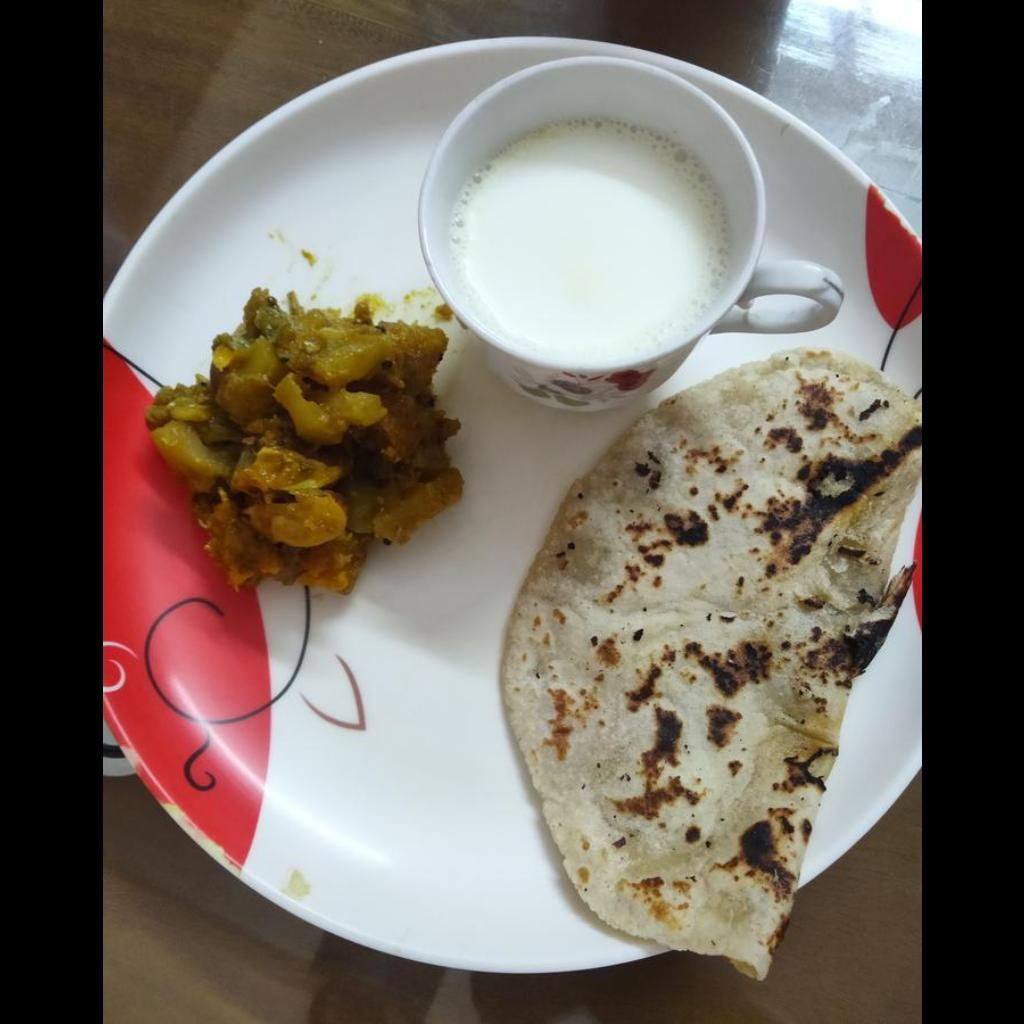milk: (446, 120, 726, 357)
ruti: (505, 352, 920, 988)
vegetable: (142, 292, 467, 603)
